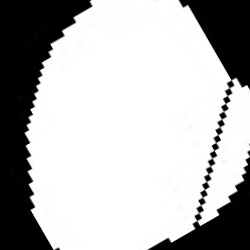spot: (25, 2, 250, 248)
